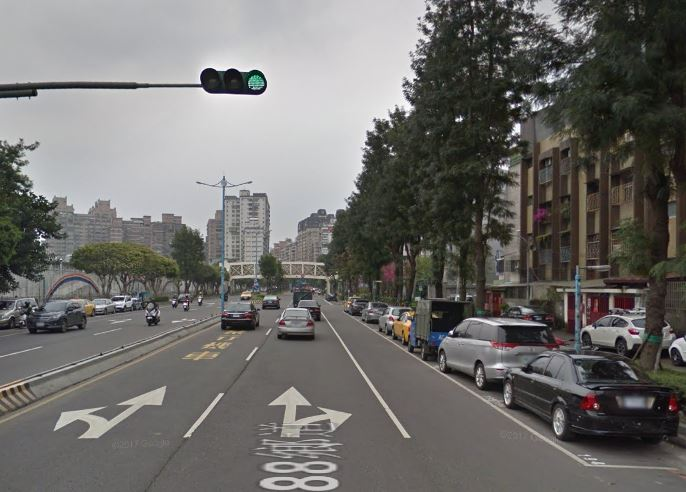Traffic_light_green: (197, 66, 269, 96)
car: (500, 345, 680, 450), (26, 298, 89, 334), (277, 307, 316, 341), (220, 298, 260, 330)
motorcycle: (142, 301, 162, 327)
